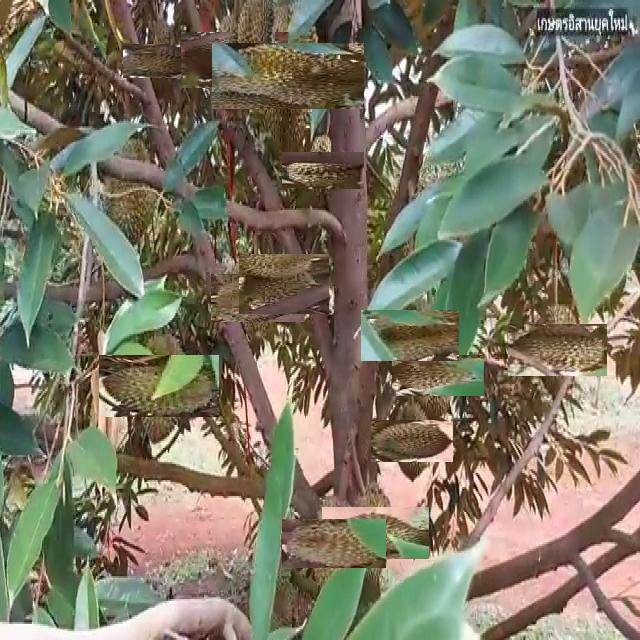durian: (234, 21, 343, 131), (113, 341, 205, 432), (193, 19, 275, 101), (336, 492, 415, 572), (520, 312, 596, 388), (296, 505, 372, 581), (246, 247, 322, 322), (373, 298, 448, 372), (222, 262, 293, 333), (404, 342, 471, 409), (381, 410, 444, 472), (232, 0, 275, 86), (293, 140, 353, 200), (134, 32, 191, 89)
